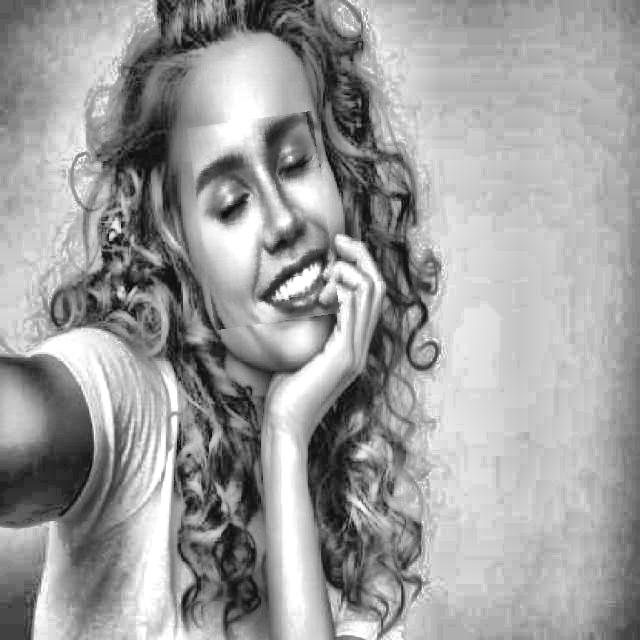happy: (194, 115, 334, 327)
